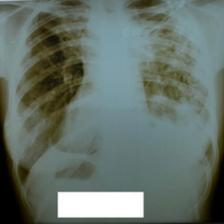tuberculosis: (4, 0, 212, 192)
